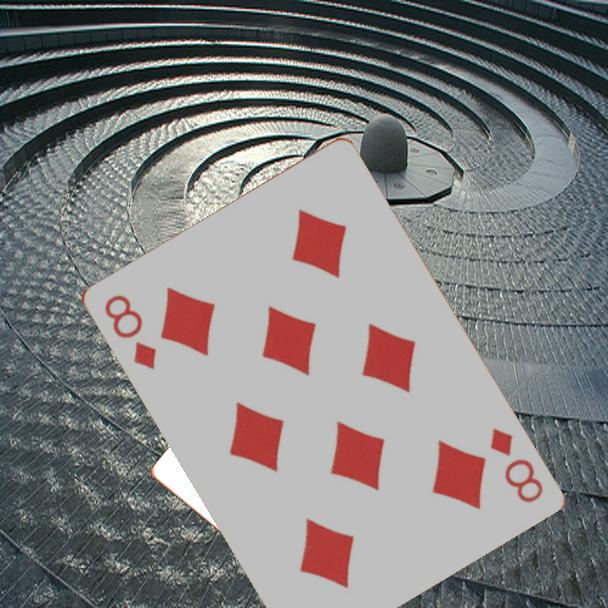d08: (486, 423, 546, 506), (100, 291, 159, 373)
